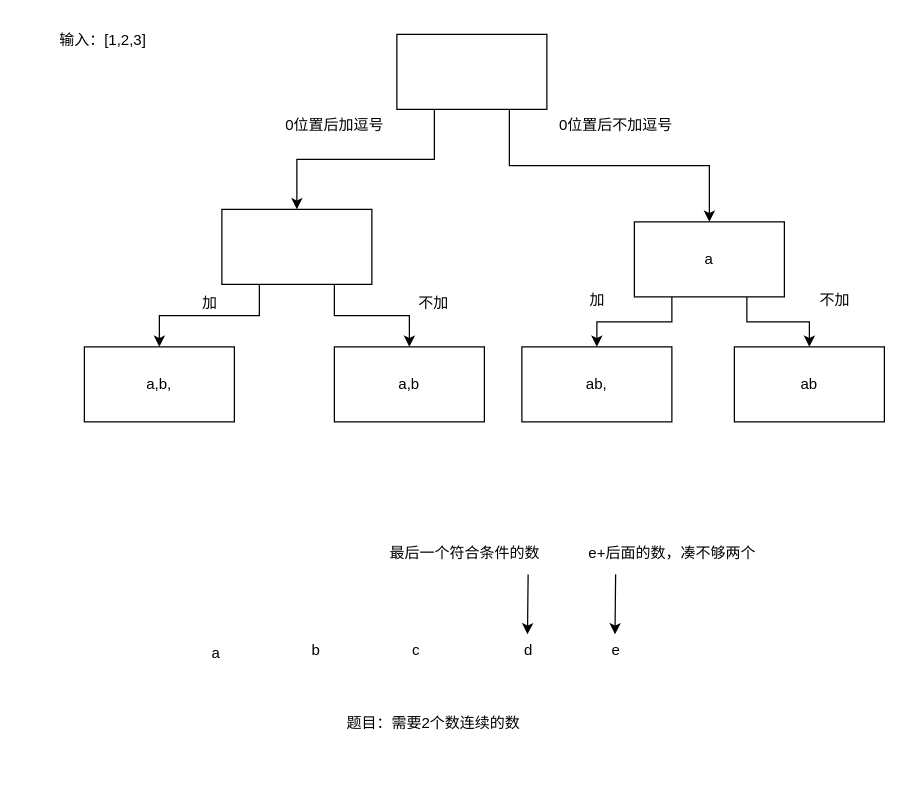
The diagram is 906 pixels wide and 799 high, and some of its shapes have lost their labels. Here are the shapes that lost their labels. From the top down, the centre of each, then its label:
point 471,71: path=[]
point 296,246: a,
